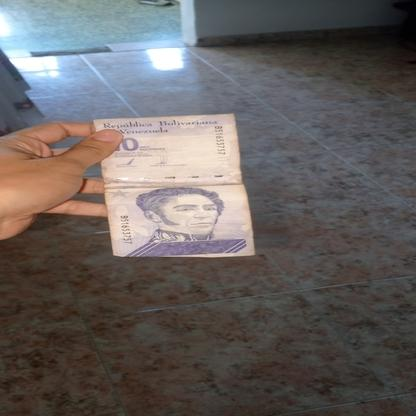ten-front-vef: (94, 112, 256, 258)
